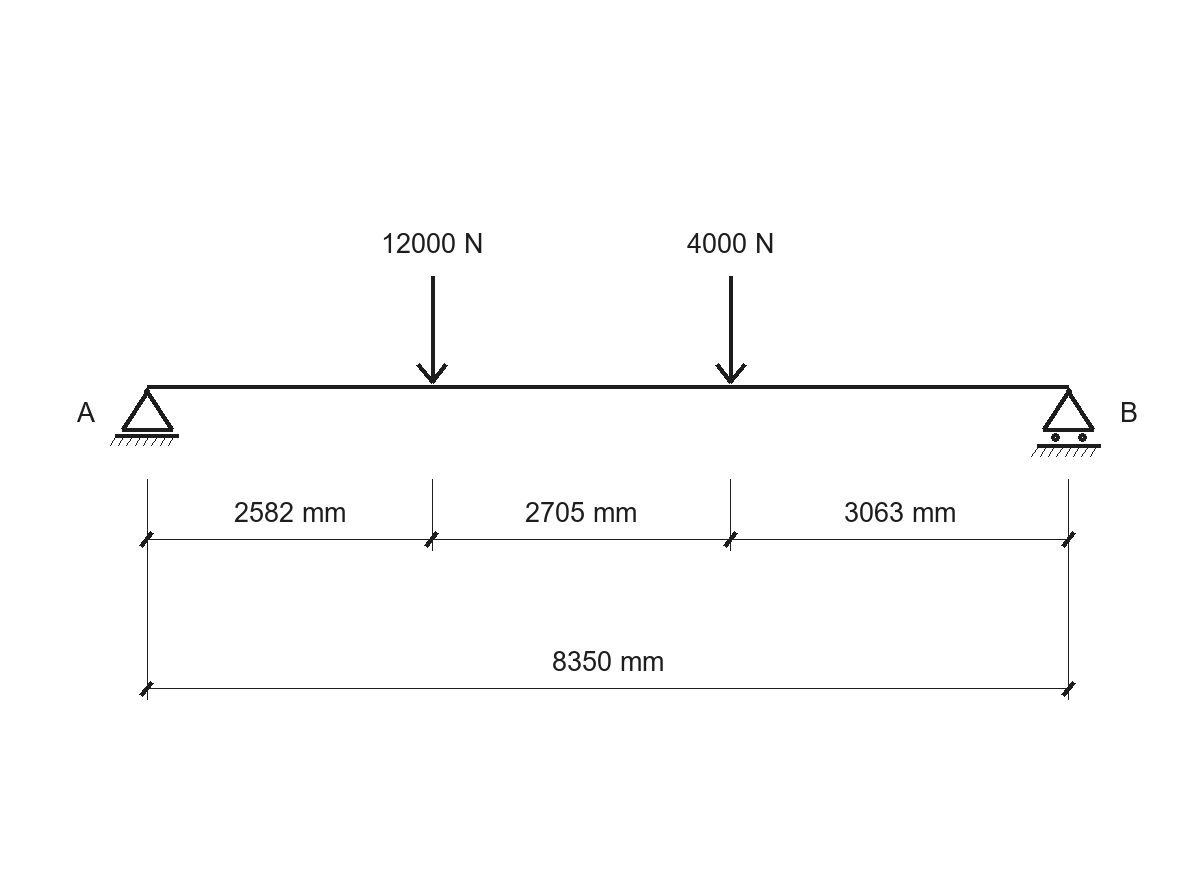pin_support: (110, 388, 179, 446)
point_load: (416, 276, 448, 384), (715, 276, 747, 384)
roller_support: (1031, 388, 1101, 457)
